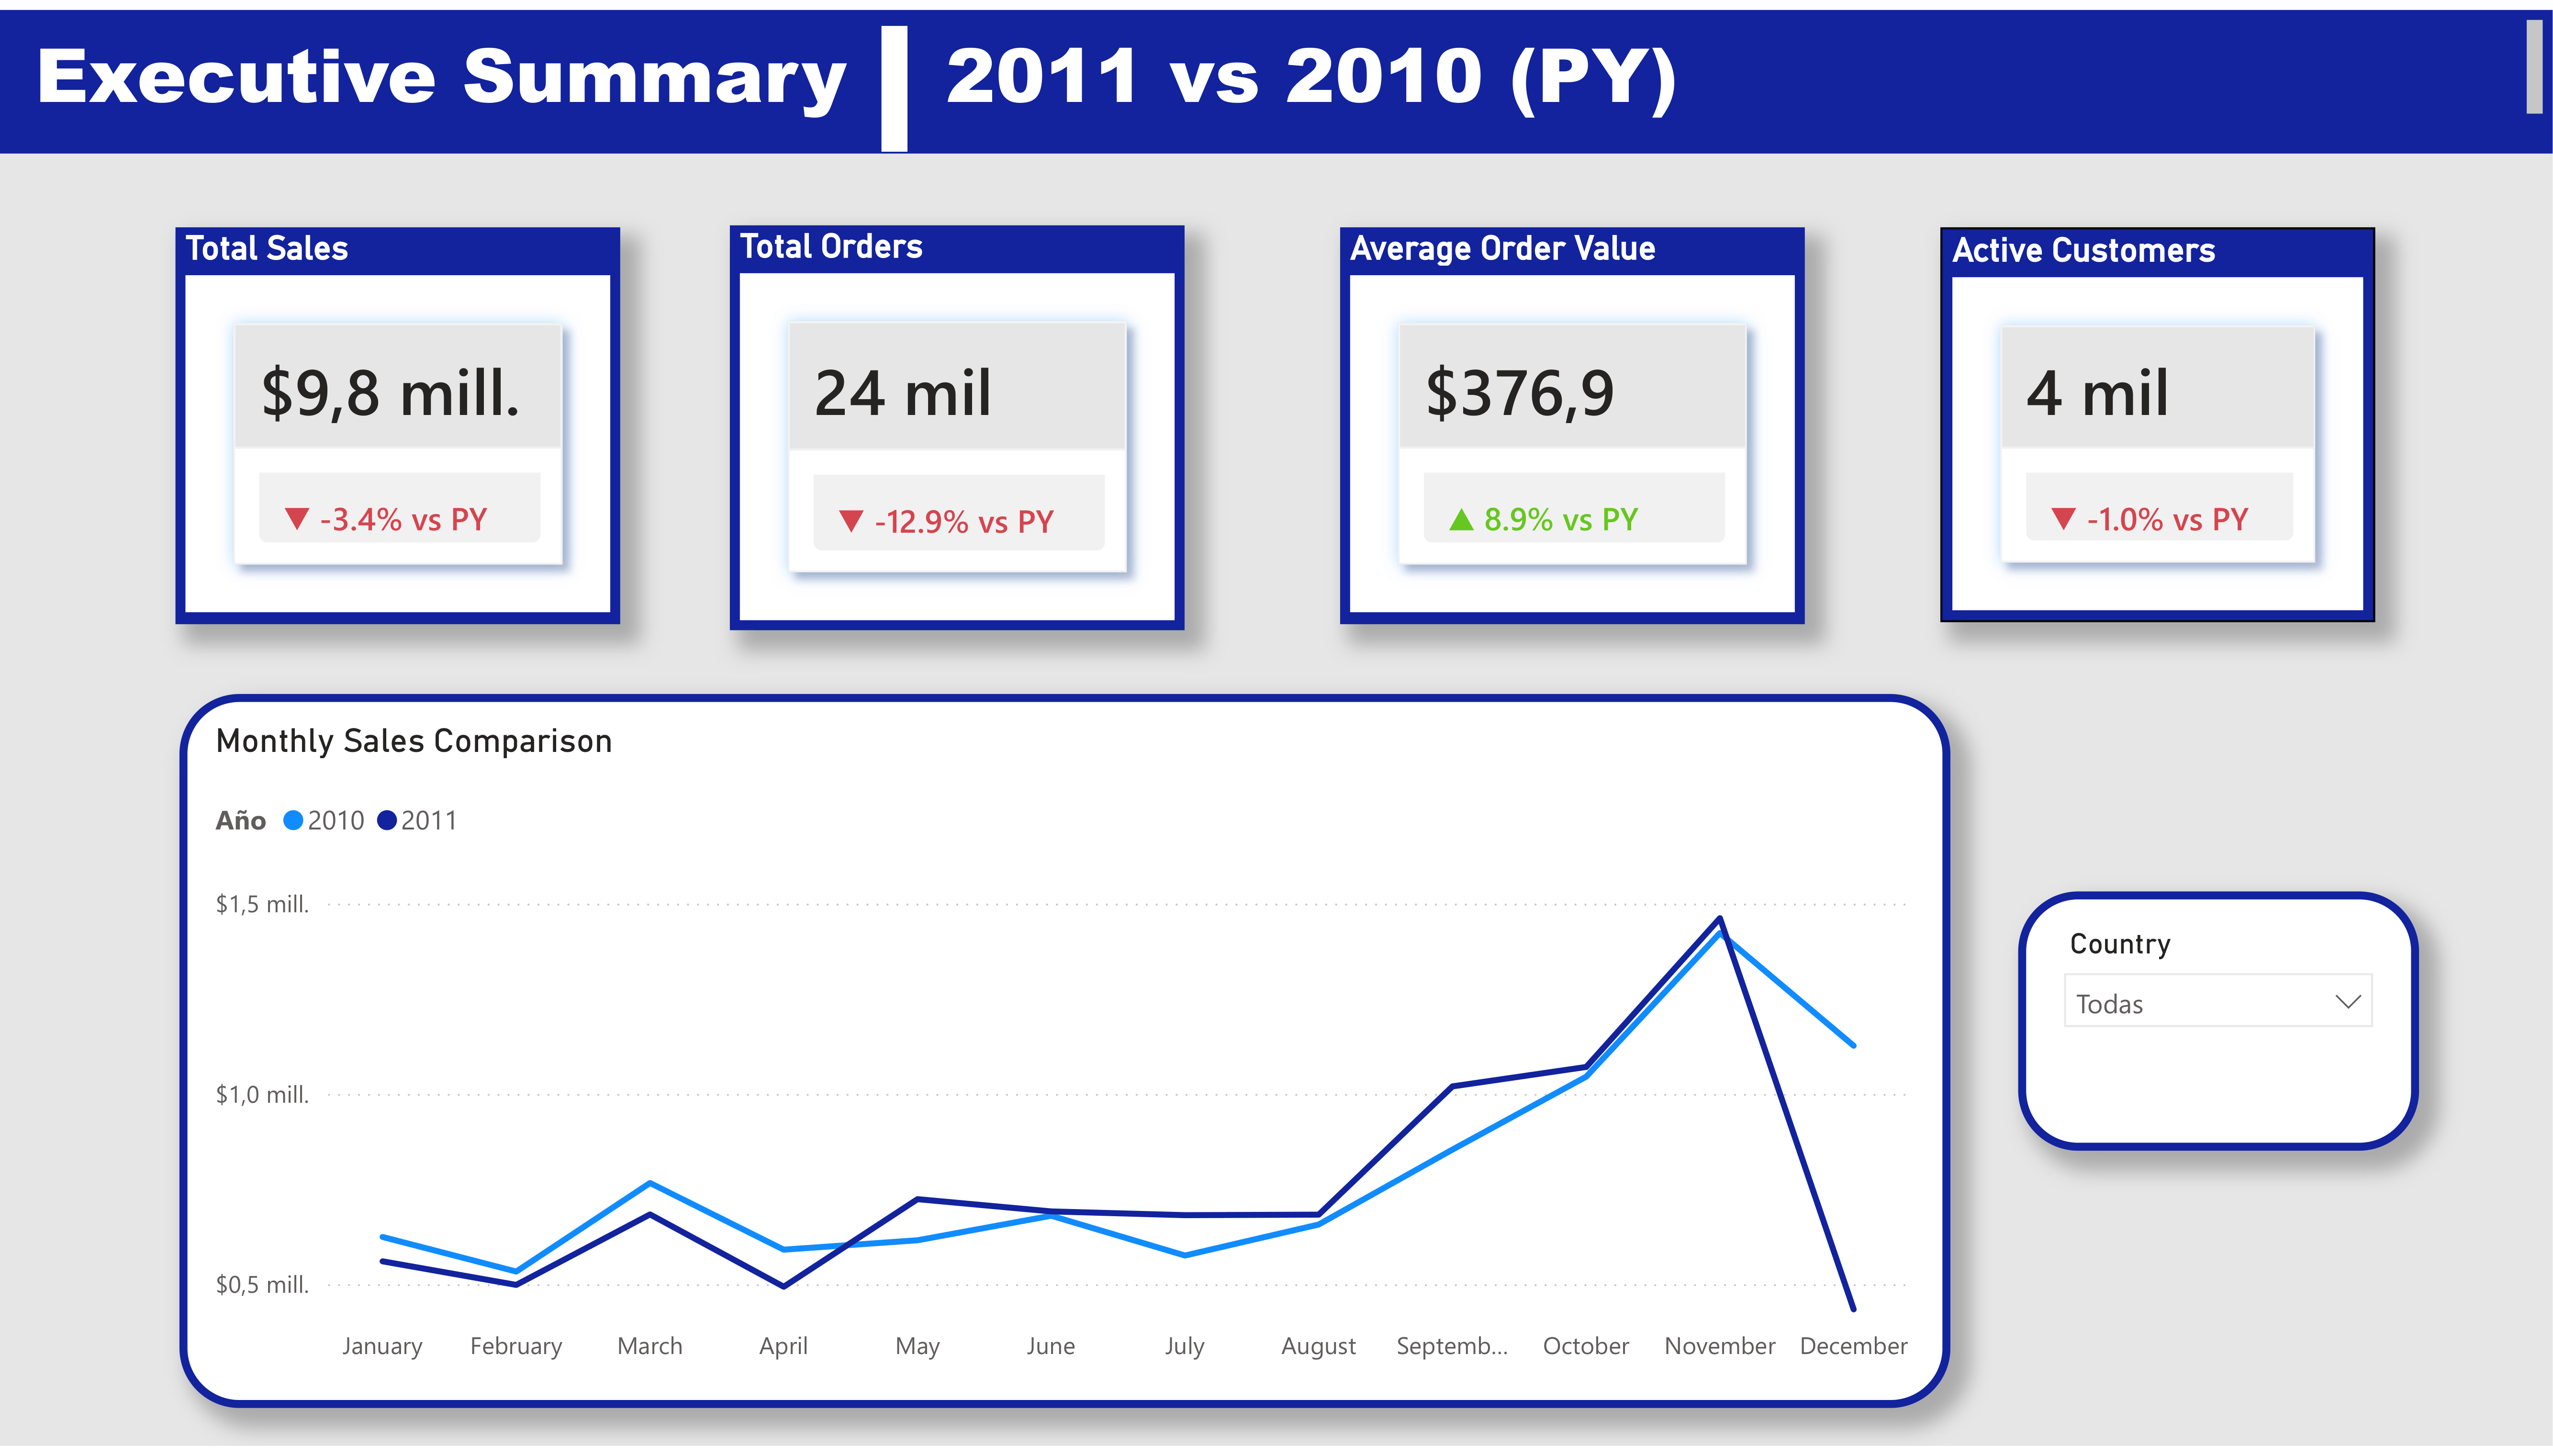

The page's visual inventory and layout, read from the dashboard file:
{"tool":"powerbi","page":{"name":"Executive Summary","canvas":[1280,720],"ordinal":0},"visuals":[{"type":"shape","box":[0,0,1280,71.7],"z":0},{"type":"cardVisual","title":"Total Sales","fields":{"Data":["_Measures.Gross Sales"]},"box":[88.3,109.1,223.1,198.9],"z":0,"group":"g1"},{"type":"textbox","box":[0,0,1280,60],"z":1000},{"type":"group","id":"g1","title":"Group 1","box":[88.3,108.3,1103.1,203.3],"z":1000,"group":"g2"},{"type":"cardVisual","title":"Total Orders","fields":{"Data":["_Measures.Total Orders"]},"box":[366.6,108.3,228.3,203.3],"z":1000,"group":"g1"},{"type":"shape","box":[441.7,8.3,13.3,63.3],"z":2000},{"type":"cardVisual","title":"Average Order Value","fields":{"Data":["_Measures.Average Order Value"]},"box":[672.6,109,233.3,198.9],"z":2000,"group":"g1"},{"type":"lineChart","title":"Monthly Sales Comparison ","fields":{"Category":["Dim_Date.NombreMes"],"Series":["Dim_Date.Año"],"Y":["_Measures.Total Sales"]},"box":[90,343.3,888.3,358.3],"z":2000,"group":"g3"},{"type":"group","id":"g2","title":"Group 3","box":[88.3,108.3,1103.3,593.3],"z":3000},{"type":"cardVisual","title":"Active Customers","fields":{"Data":["_Measures.Active Customers"]},"box":[973.1,109,218.3,198.3],"z":3000,"group":"g1"},{"type":"group","id":"g3","title":"Group 2","box":[90,343.3,888.3,358.3],"z":3000,"group":"g2"},{"type":"slicer","fields":{"Values":["Fact_Sales.Country"]},"box":[1011.7,441.7,201.2,130],"z":4000}]}

Visuals, with their boxes in screenshot pixels (x1, y1, x2, y2), scaled from the page's 1280x720 canvas onto the 2553x1456 screenshot:
shape: x1=0 y1=0 x2=2553 y2=145
"Total Sales" cardVisual: x1=176 y1=221 x2=621 y2=623
textbox: x1=0 y1=0 x2=2553 y2=121
"Group 1" group: x1=176 y1=219 x2=2376 y2=630
"Total Orders" cardVisual: x1=731 y1=219 x2=1187 y2=630
shape: x1=881 y1=17 x2=907 y2=145
"Average Order Value" cardVisual: x1=1342 y1=221 x2=1807 y2=623
"Monthly Sales Comparison " lineChart: x1=179 y1=694 x2=1951 y2=1419
"Group 3" group: x1=176 y1=219 x2=2377 y2=1419
"Active Customers" cardVisual: x1=1941 y1=221 x2=2376 y2=621
"Group 2" group: x1=179 y1=694 x2=1951 y2=1419
slicer - Fact_Sales.Country: x1=2018 y1=893 x2=2419 y2=1156
